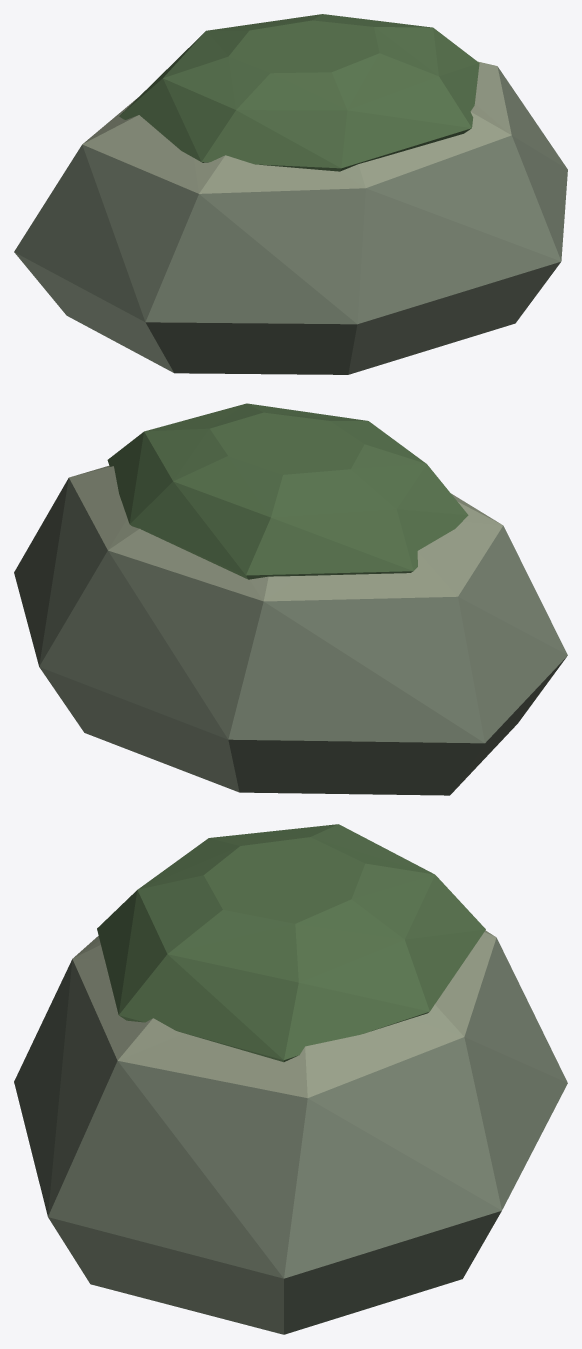
File: moss-stone.glb
The picture shows the model from 3 angles, top to bottom: view 1: azimuth 30°, elevation 25°; view 2: azimuth 150°, elevation 25°; view 3: azimuth 270°, elevation 25°; orthographic projection. The views are drawn at different scales.
Parts seen in each view (by area): view 1: moss-stone__body; view 2: moss-stone__body; view 3: moss-stone__body.
Boxes of the visible parts, <box> form: moss-stone__body: <box>14,14,567,374</box>; moss-stone__body: <box>14,403,567,795</box>; moss-stone__body: <box>14,824,567,1334</box>.
Size of the model in its own units: 0.445 by 0.215 by 0.3349.
